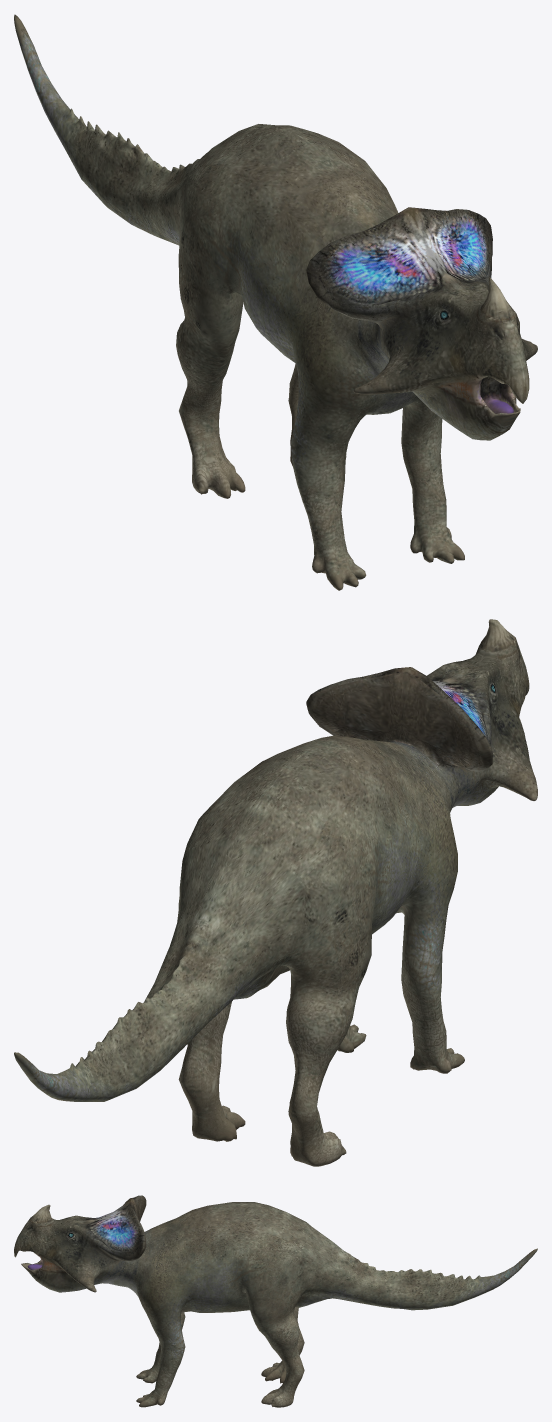
The model's file is Protoceratops.glb.
3 views of the same model, one above another, from view 1: azimuth 30°, elevation 25°; view 2: azimuth 150°, elevation 25°; view 3: azimuth 270°, elevation 25° (orthographic). The views are drawn at different scales.
Visible parts, largest first — view 1: UNWRAP; view 2: UNWRAP; view 3: UNWRAP.
Boxes of the visible parts, x1,y1,x2,y2 form: UNWRAP: (14,14,537,590); UNWRAP: (14,619,537,1166); UNWRAP: (14,1195,537,1407).
Bounding box in the file's own units: 0.8572 × 1.67 × 4.1.
Materials: 1 (1 with a texture image).
